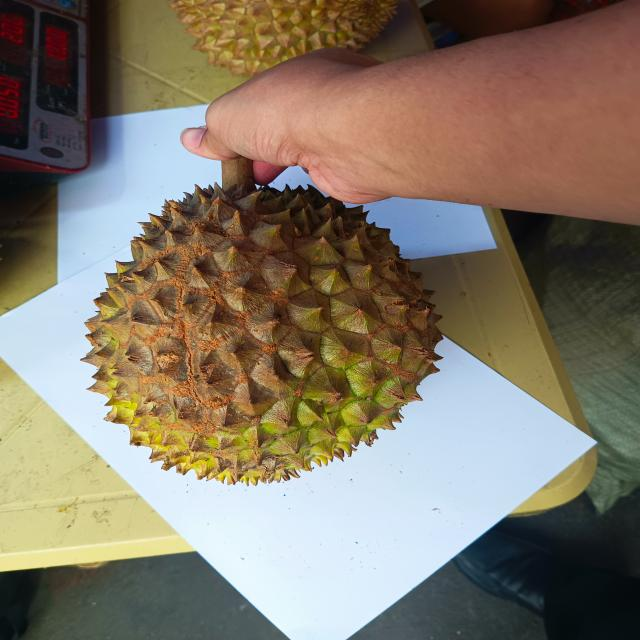mature: (80, 175, 446, 486), (164, 0, 398, 73)
